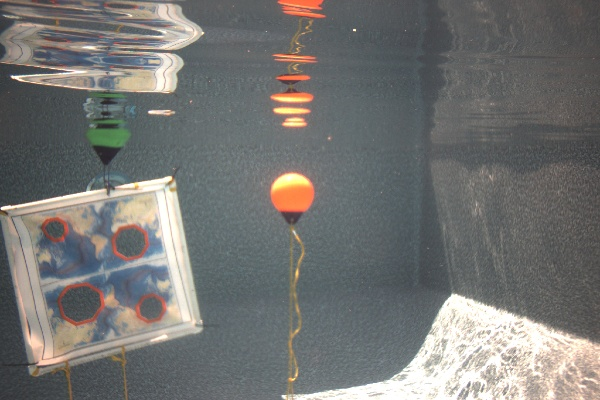buoy: (270, 173, 314, 227)
torpille: (0, 176, 202, 376)
torpille_target: (56, 282, 103, 326), (111, 224, 149, 260), (136, 294, 166, 322), (40, 217, 68, 241)
